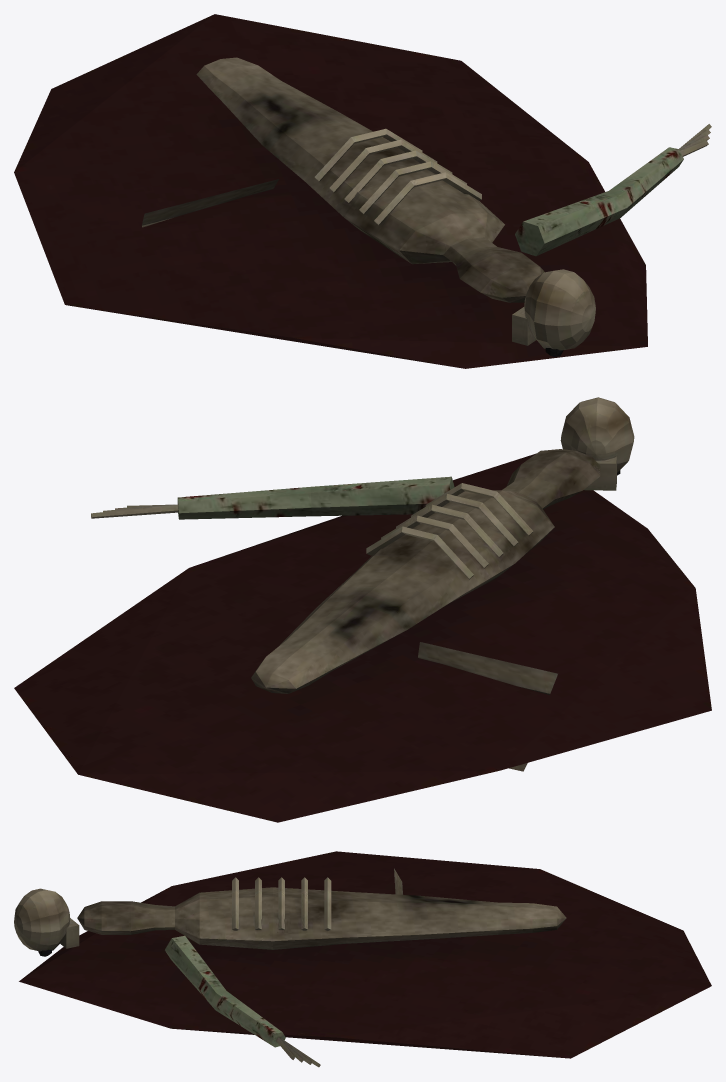
File: body_remains.glb
3 renders of one model, top to bottom at view 1: azimuth 30°, elevation 25°; view 2: azimuth 150°, elevation 25°; view 3: azimuth 270°, elevation 25°, orthographic. The views are drawn at different scales.
Visible parts, largest first — view 1: body_remains; view 2: body_remains; view 3: body_remains.
Part boxes in pixels (box(x1,y1,x2,y2)): body_remains: box(14, 14, 711, 368); body_remains: box(14, 397, 711, 822); body_remains: box(14, 851, 711, 1067).
Bounding box in the file's own units: 1.97 × 0.501 × 2.42.
Materials: 1 (1 with a texture image).
